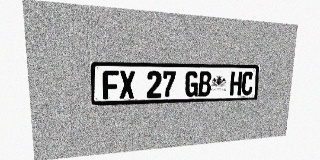2: (147, 71, 161, 98)
7: (162, 71, 176, 98)
B: (198, 71, 212, 97)
C: (241, 72, 254, 95)
F: (102, 70, 119, 99)
G: (185, 71, 199, 97)
H: (230, 71, 242, 96)
X: (119, 71, 135, 99)
